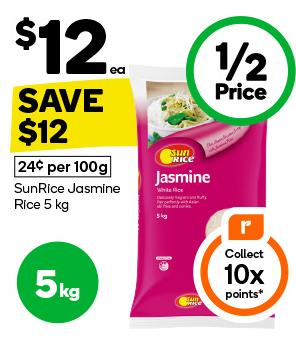description_block: (7, 180, 123, 213)
price_main: (7, 10, 130, 81)
product_image_block: (129, 56, 278, 334)
promo_text_block: (3, 77, 141, 152)
unit_price_block: (3, 153, 121, 181)
